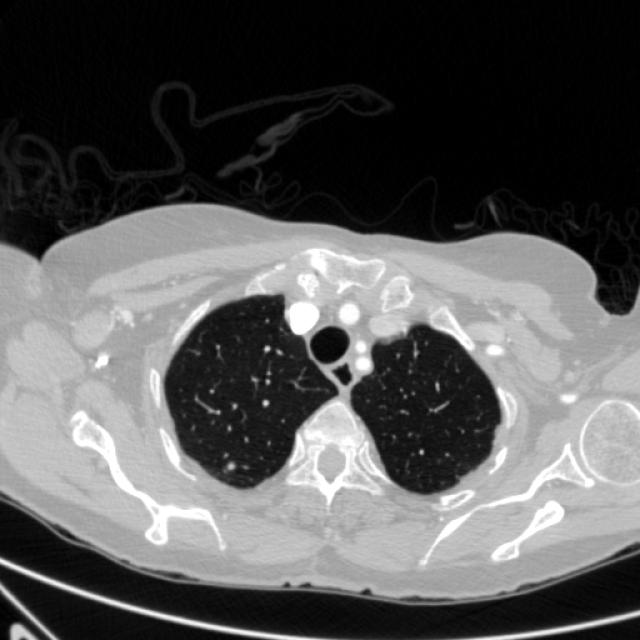nodule: (219, 454, 241, 476)
